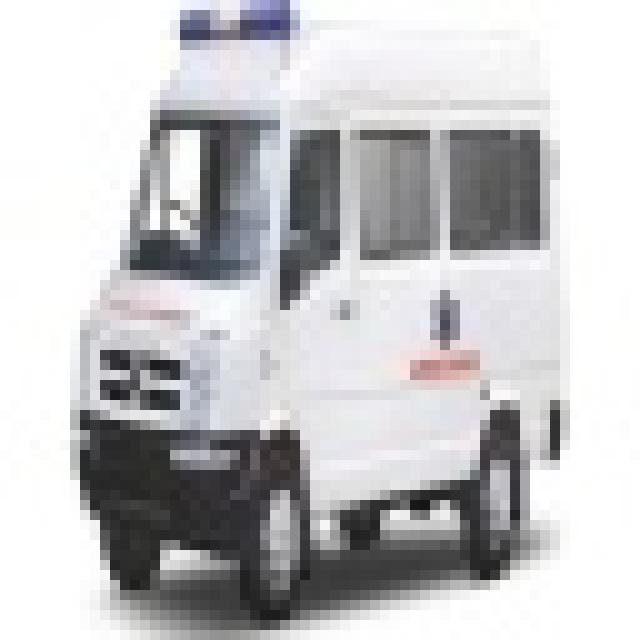Ambulance: (60, 0, 570, 620)
